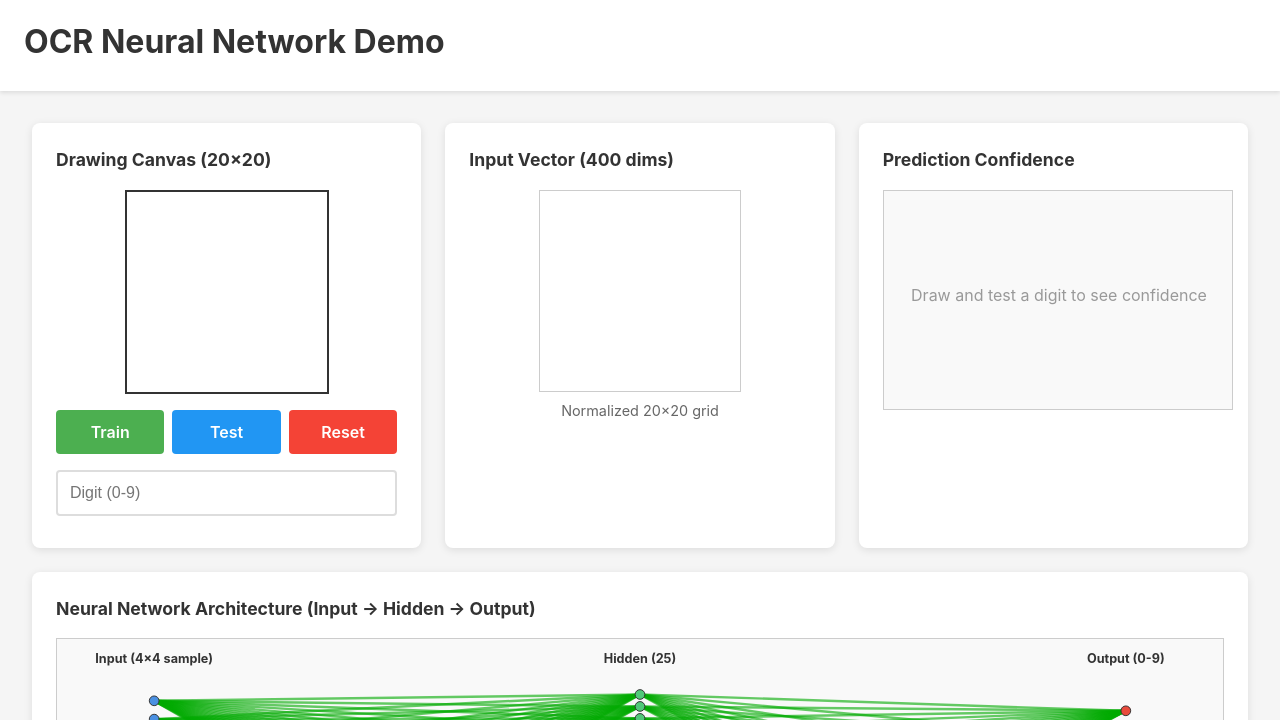
it: App › handles train error gracefully
The width and height of the screenshot is (1280, 720).
Type "3" into the field with placeholder "Digit (0-9)".
click(227, 493); type("3")  # box [56, 470, 397, 516]
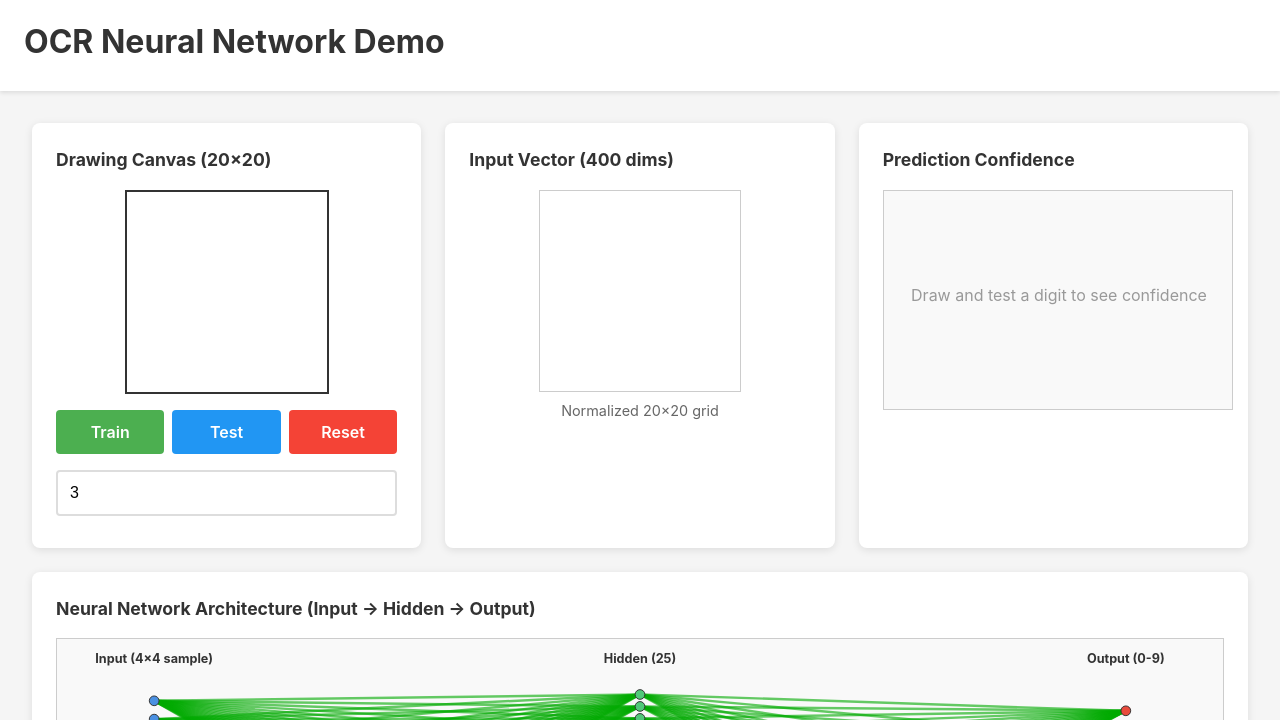
Press the mouse on the drawing below "Drawing Canvas (20×20)" at (227, 292), box [125, 190, 329, 394]
Click the button "Train".
click(110, 432)  # box [56, 410, 164, 454]
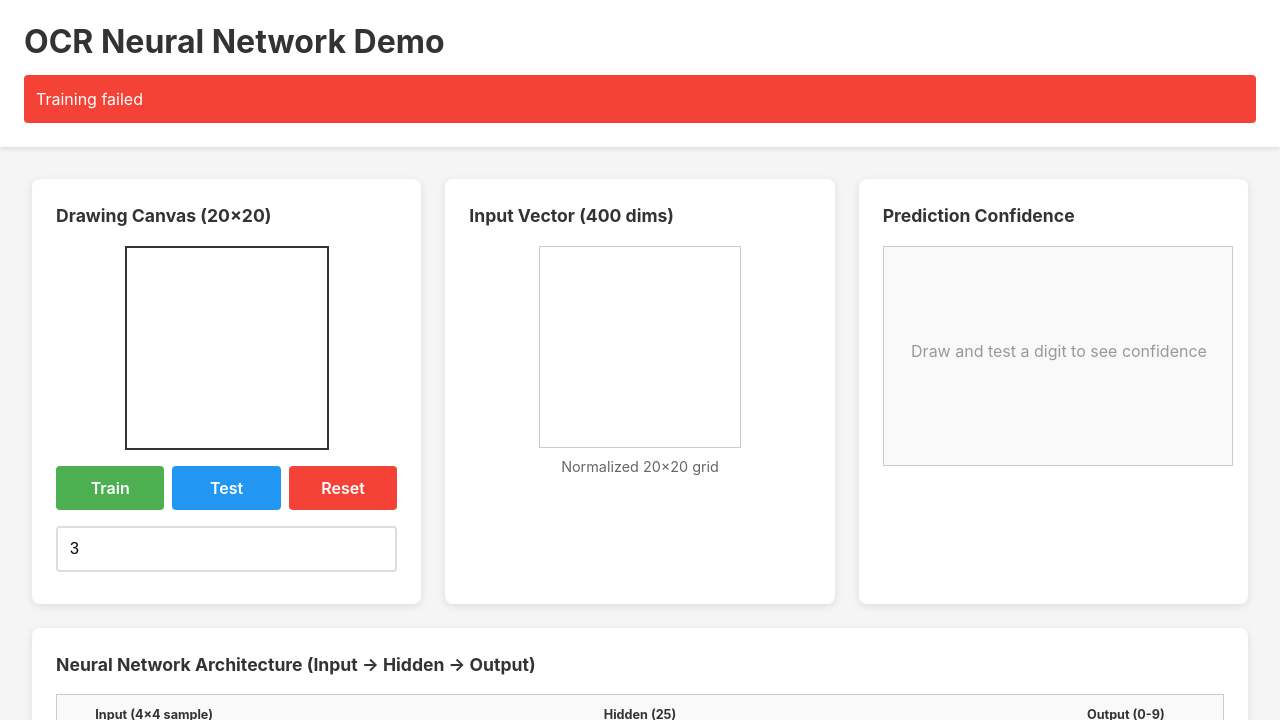
Expected: the text "Training failed" is shown, [24, 75, 1256, 123]
